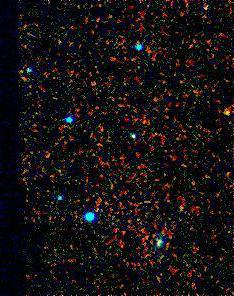star: (213, 96, 234, 126)
